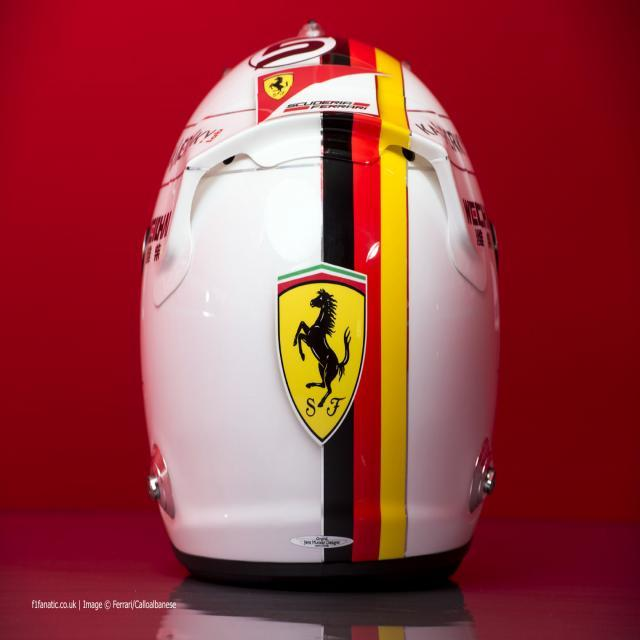Helm: (132, 28, 507, 594)
